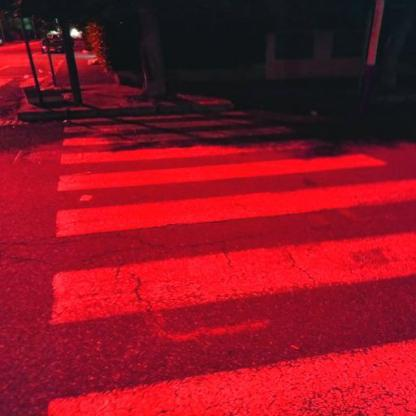crosswalk: (43, 144, 414, 251)
